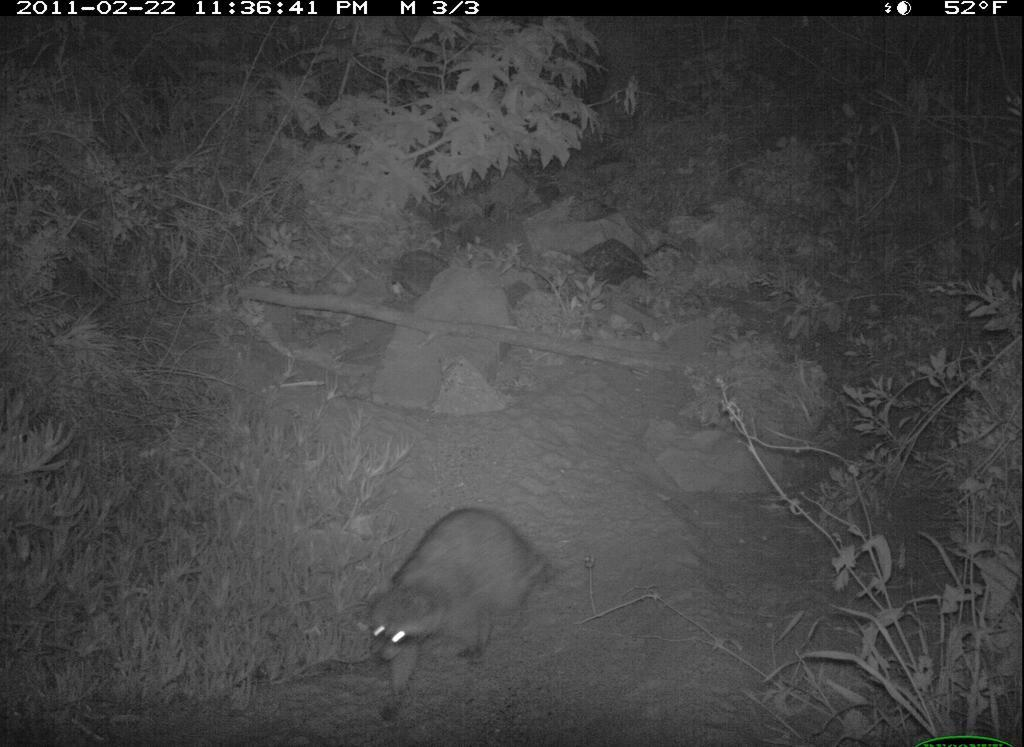raccoon: (354, 497, 566, 728)
